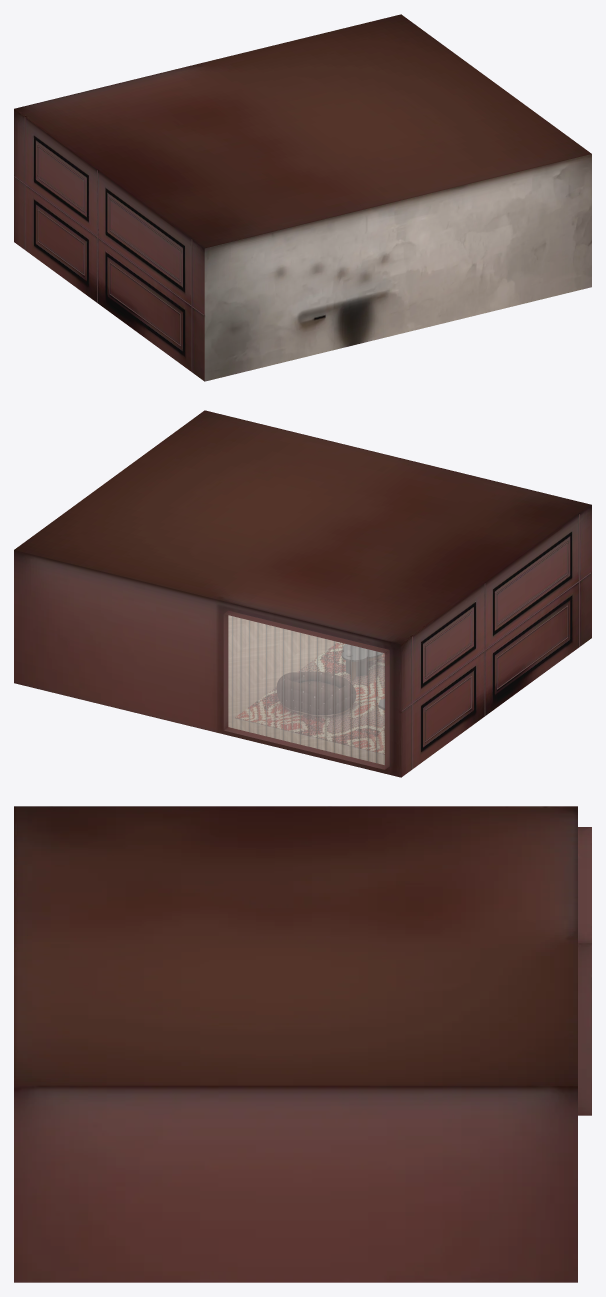
Rendered from vintage_living_room-transformed.glb.
The picture shows the model from 3 angles, top to bottom: view 1: azimuth 30°, elevation 25°; view 2: azimuth 150°, elevation 25°; view 3: azimuth 270°, elevation 25°; orthographic projection. The views are drawn at different scales.
Parts seen in each view (by area): view 1: house_house.001_0, wall_wall.001_0; view 2: house_house.001_0, curtain_curtain.001_0, floor_Floor.001_0, carpet_Carpet.001_0, sofa_sofa1.001_0, table_table2.001_0; view 3: house_house.001_0.
Part boxes in pixels (x1,y1,x2,y2): house_house.001_0: [14, 14, 591, 381]; wall_wall.001_0: [204, 154, 591, 381]; house_house.001_0: [14, 410, 591, 777]; curtain_curtain.001_0: [228, 615, 384, 765]; floor_Floor.001_0: [228, 616, 384, 764]; carpet_Carpet.001_0: [235, 642, 384, 754]; sofa_sofa1.001_0: [277, 672, 355, 714]; table_table2.001_0: [342, 644, 384, 709]; house_house.001_0: [14, 806, 591, 1282].
Bounding box in the file's own units: 12.17 × 4.01 × 10.63.
Materials: 18 (18 with a texture image).
